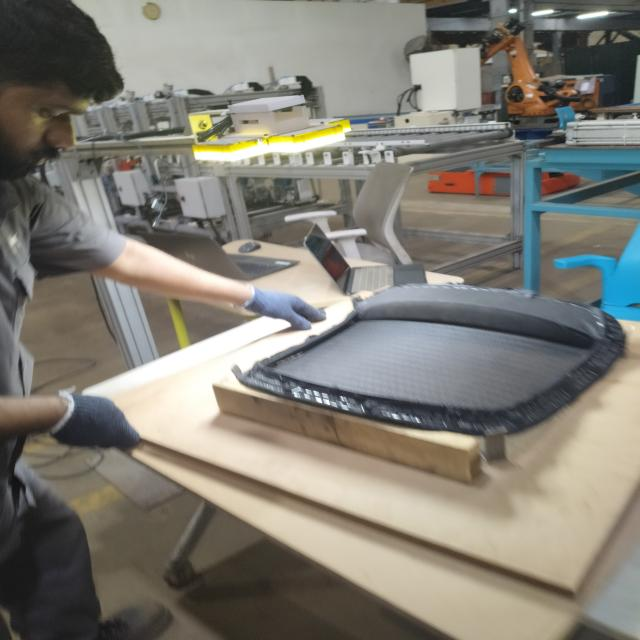Gloves-Detection: (45, 379, 129, 463), (240, 284, 322, 332)
